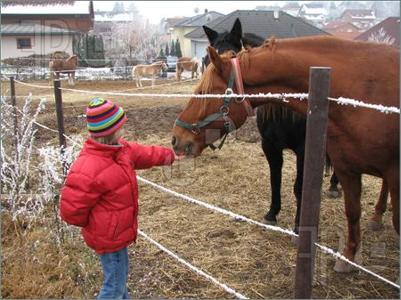person: (59, 98, 187, 299)
